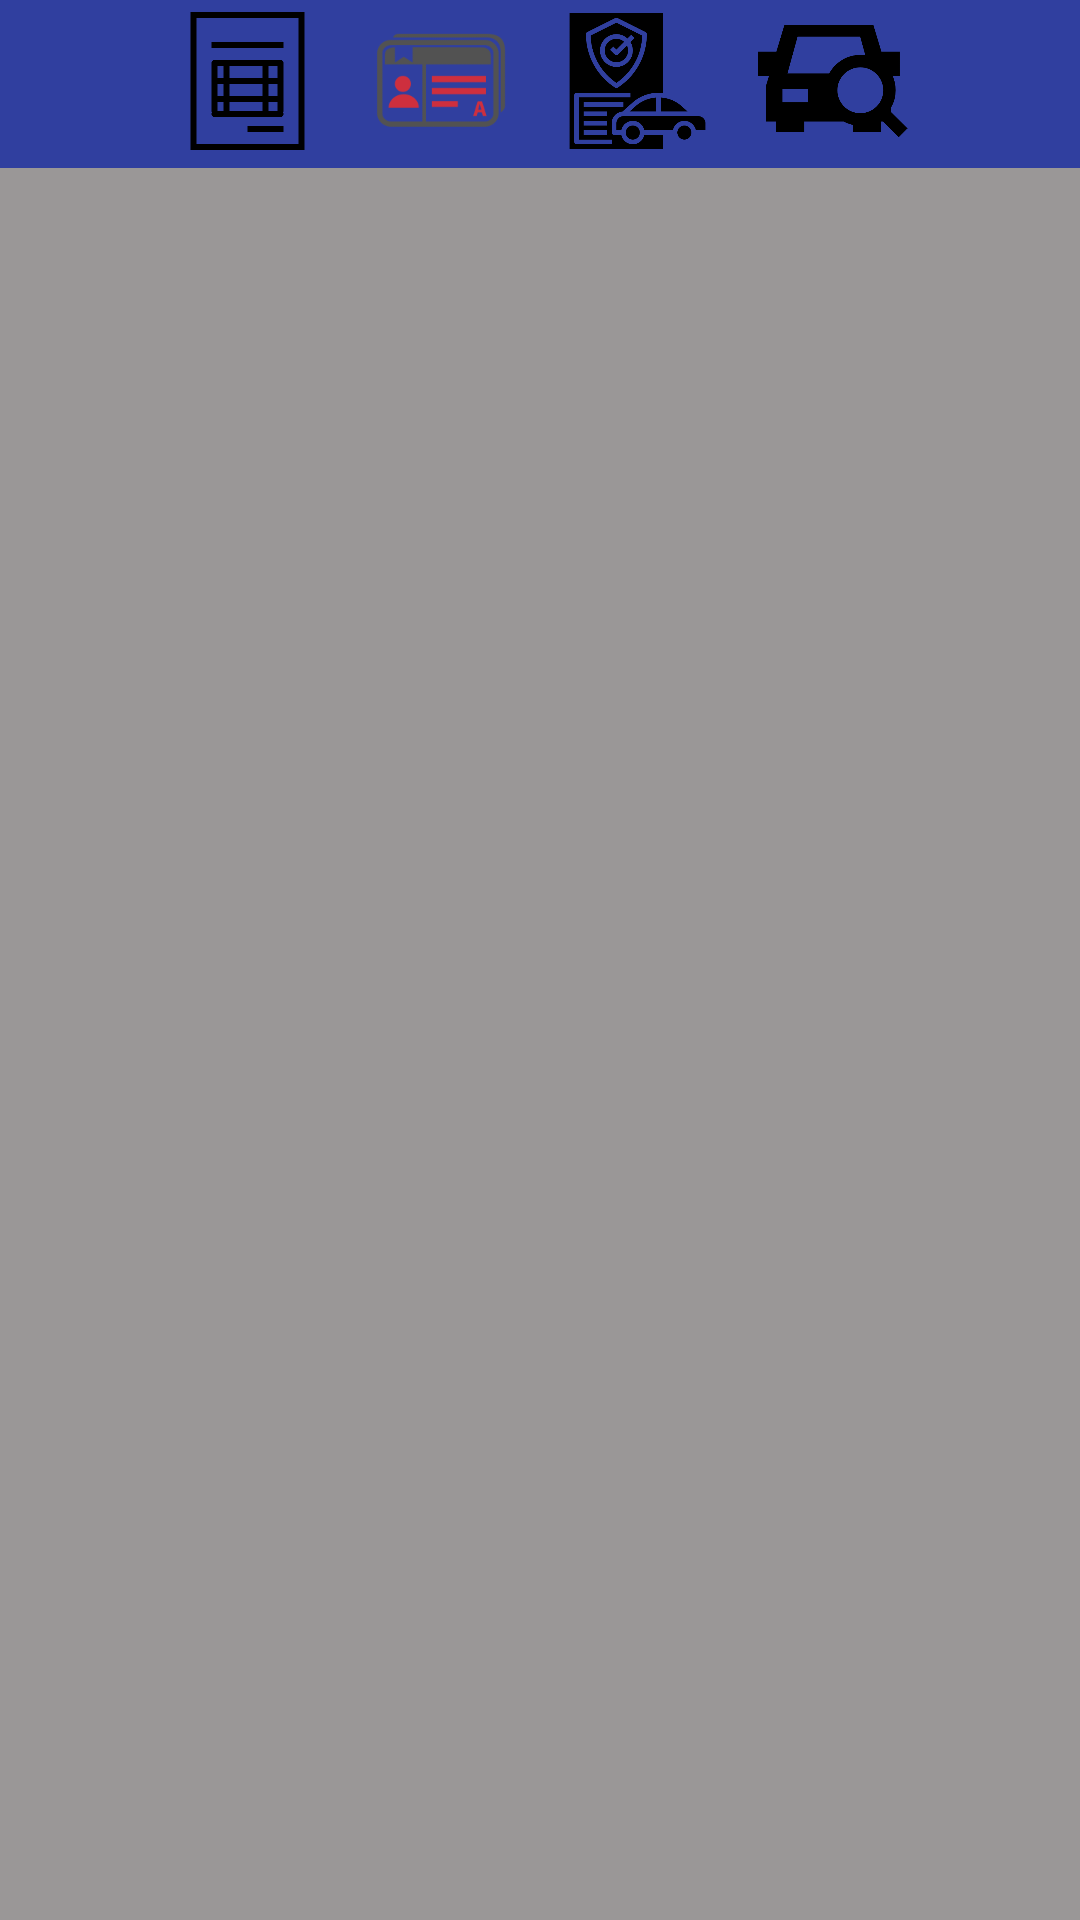

Where icons sit on this 1080px×1920px app screen, as [x1,y1,x2,y2]:
circulacionicon: [377,34,505,127]
facturaicon: [190,12,305,150]
iconseguro: [569,13,706,149]
icontenencia: [758,25,908,137]
